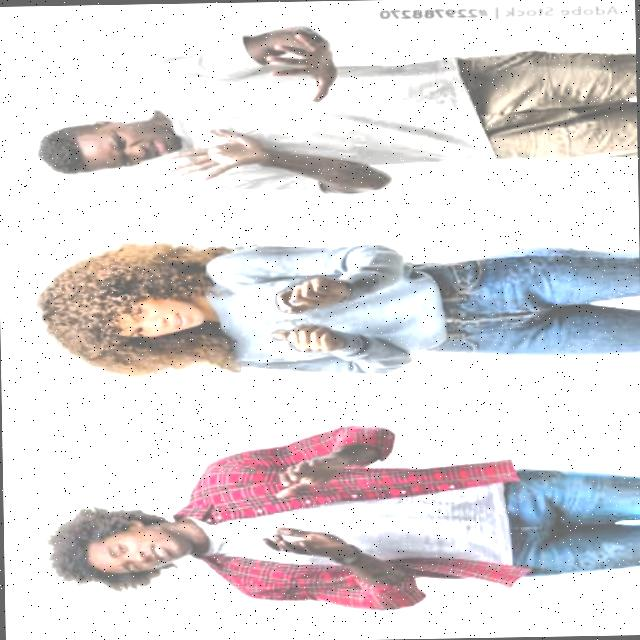disgust: (26, 228, 241, 393), (33, 497, 204, 604), (26, 104, 196, 179)
